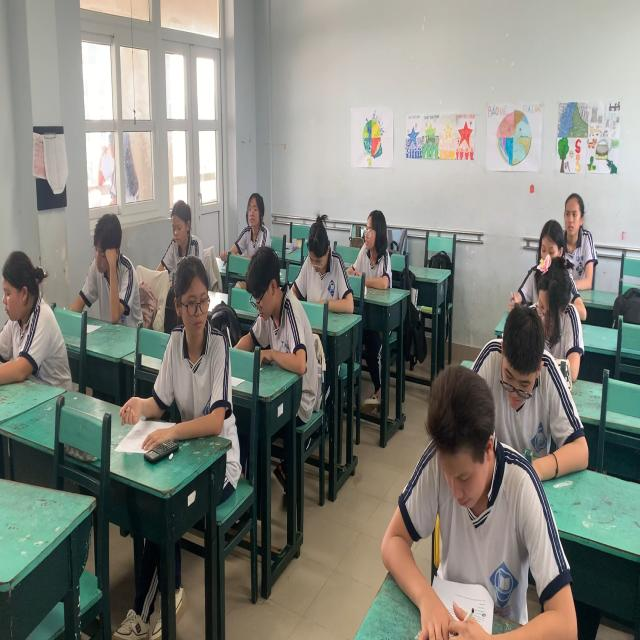cheating: (159, 247, 233, 443), (344, 202, 398, 288)
not_cheating: (384, 381, 523, 640), (480, 305, 591, 500), (240, 254, 309, 378), (0, 250, 64, 378), (530, 257, 582, 382), (81, 199, 132, 319), (300, 205, 350, 319), (556, 185, 598, 288), (230, 178, 276, 258), (153, 196, 202, 256), (536, 212, 560, 254)
